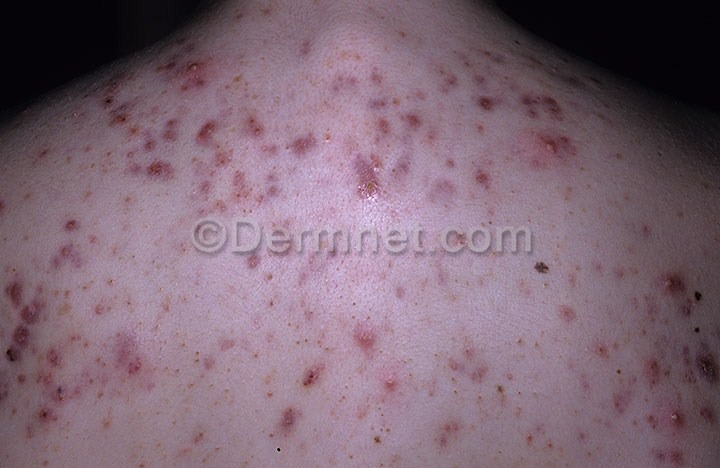Acne: (13, 27, 709, 450)
